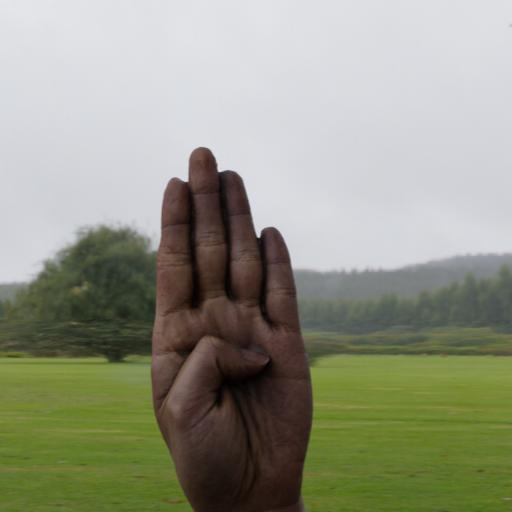B: (125, 139, 323, 507)
